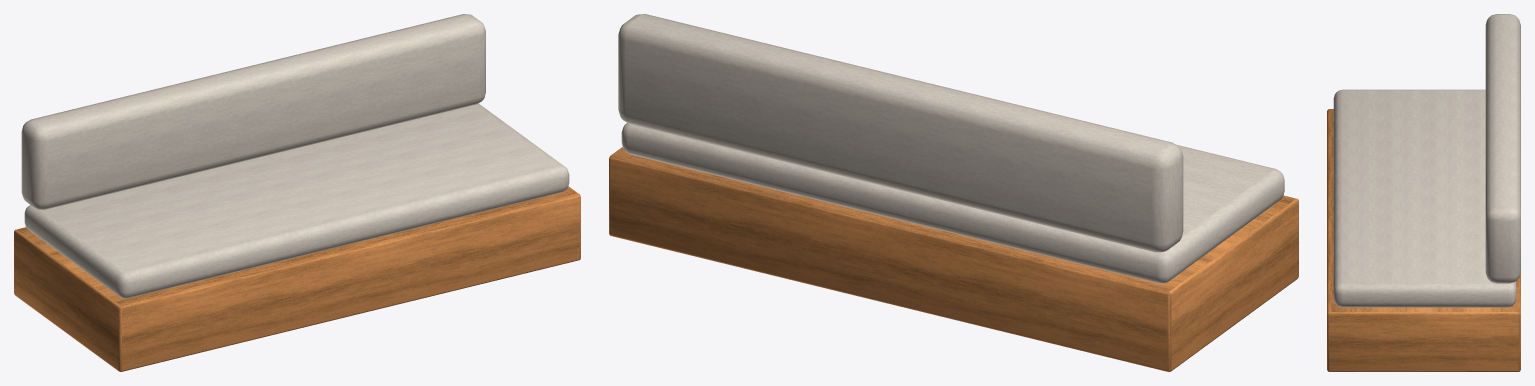
Rendered from lounge.bench-sofa.glb.
3 views of the same model, side by side, from view 1: azimuth 30°, elevation 25°; view 2: azimuth 150°, elevation 25°; view 3: azimuth 270°, elevation 25° (orthographic). The views are drawn at different scales.
Parts seen in each view (by area): view 1: lounge.bench-sofa.001; view 2: lounge.bench-sofa.001; view 3: lounge.bench-sofa.001.
Boxes of the visible parts, box(x1,y1,x2,y2) form: lounge.bench-sofa.001: box(14, 14, 580, 371); lounge.bench-sofa.001: box(609, 14, 1298, 371); lounge.bench-sofa.001: box(1327, 14, 1520, 371).
Size of the model in its own units: 2.2 by 0.8 by 0.88.
2 materials, 2 textured.
